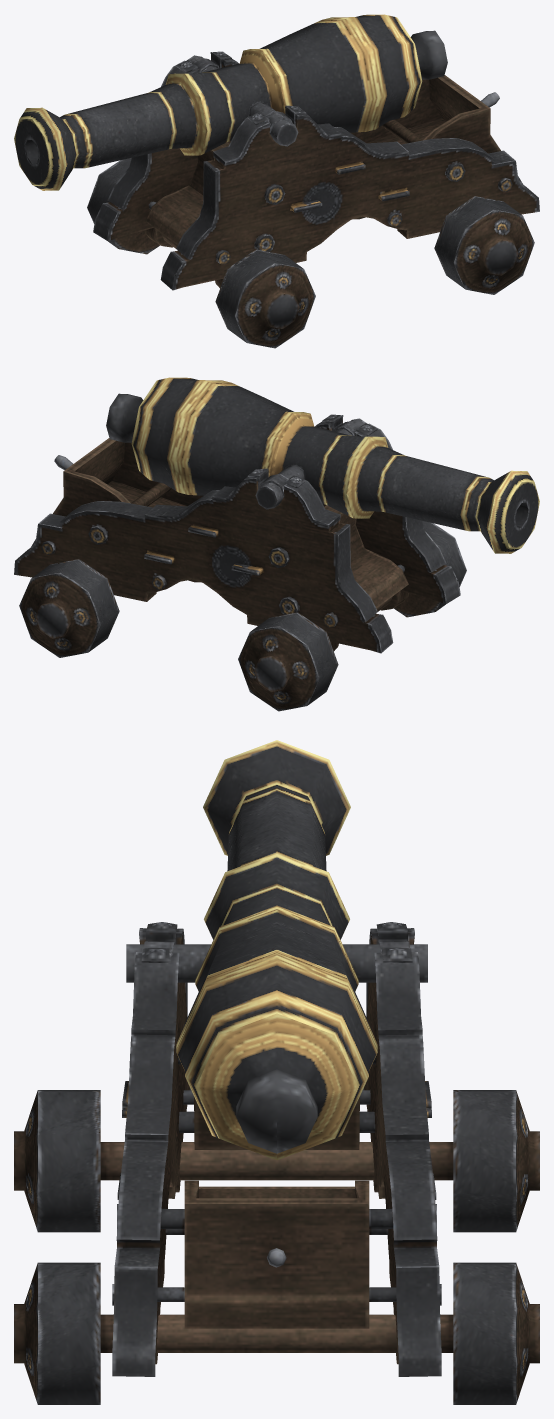
The model's file is armata_lod_lvl_04.fbx.
The picture shows the model from 3 angles, top to bottom: view 1: azimuth 30°, elevation 25°; view 2: azimuth 150°, elevation 25°; view 3: azimuth 270°, elevation 25°; orthographic projection. The views are drawn at different scales.
Visible parts, largest first — view 1: armata_lod_lvl4; view 2: armata_lod_lvl4; view 3: armata_lod_lvl4.
Part boxes in pixels (bbox=[...]): armata_lod_lvl4: bbox=[14, 14, 539, 348]; armata_lod_lvl4: bbox=[14, 377, 539, 711]; armata_lod_lvl4: bbox=[14, 740, 539, 1404].
Bounding box in the file's own units: 213 × 105 × 129.
1 material, 1 textured.
